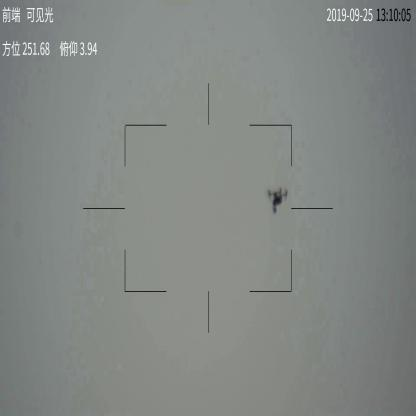uav: (265, 185, 289, 213)
